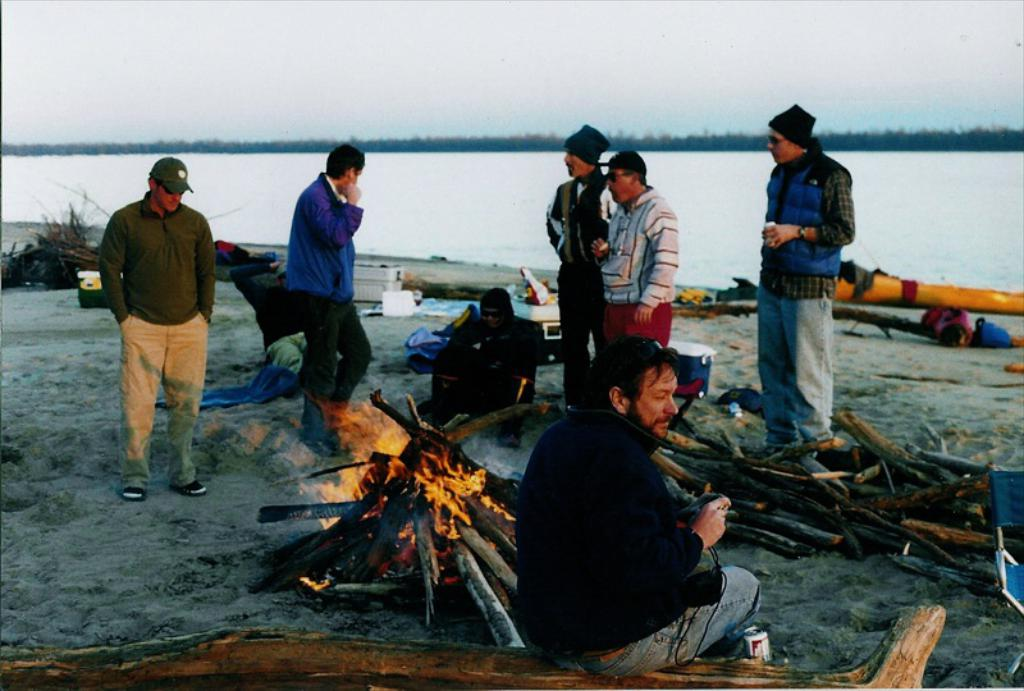Person: (414, 289, 545, 431), (229, 259, 343, 399)
